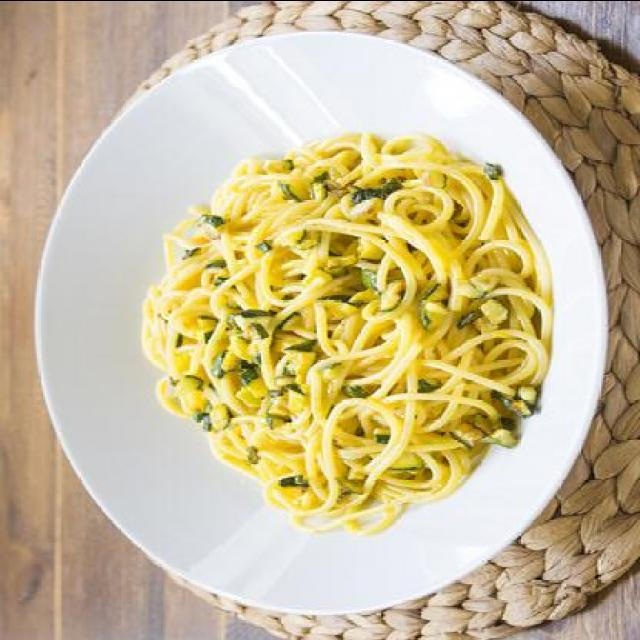Pasta with carbonara sauce: (151, 74, 557, 548)
